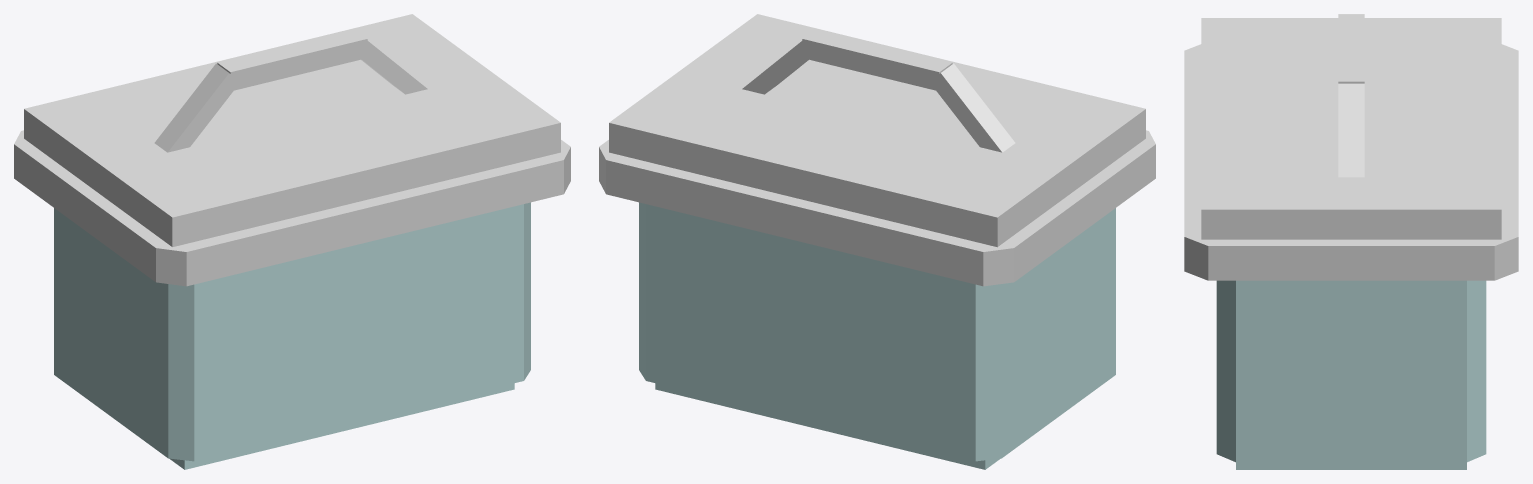
File: container_with_lid.dae
3 views of the same model, side by side, from view 1: azimuth 30°, elevation 25°; view 2: azimuth 150°, elevation 25°; view 3: azimuth 270°, elevation 25° (orthographic).
Visible parts, largest first — view 1: Lid_6, Box_2, Box_4, Lid_2, Lid_5, Handle_1, Handle_3, Lid_1, Box_1, Handle_2, Box_5; view 2: Lid_6, Box_3, Box_4, Lid_3, Lid_5, Handle_1, Handle_3, Lid_1, Box_1, Handle_2, Box_5; view 3: Lid_6, Box_5, Lid_4, Lid_3, Lid_2, Handle_2, Handle_1, Box_1, Lid_1.
Boxes of the visible parts, box(x1,y1,x2,y2) form: Lid_6: box(24, 14, 560, 247); Box_2: box(194, 204, 523, 461); Box_4: box(54, 208, 194, 461); Lid_2: box(178, 154, 563, 286); Lid_5: box(14, 131, 186, 286); Handle_1: box(217, 29, 367, 90); Handle_3: box(154, 63, 240, 152); Lid_1: box(24, 133, 560, 246); Box_1: box(169, 383, 514, 469); Handle_2: box(355, 39, 427, 94); Box_5: box(524, 202, 530, 380); Lid_6: box(609, 14, 1145, 246); Box_3: box(646, 204, 975, 461); Box_4: box(975, 208, 1115, 461); Lid_3: box(606, 154, 991, 286); Lid_5: box(983, 131, 1155, 286); Handle_1: box(802, 29, 952, 90); Handle_3: box(929, 63, 1015, 152); Lid_1: box(609, 133, 1145, 247); Box_1: box(655, 383, 1000, 469); Handle_2: box(742, 39, 814, 94); Box_5: box(639, 202, 645, 380); Lid_6: box(1201, 18, 1501, 239); Box_5: box(1216, 280, 1486, 462); Lid_4: box(1184, 236, 1518, 280); Lid_3: box(1501, 50, 1518, 236); Lid_2: box(1184, 50, 1201, 236); Handle_2: box(1338, 83, 1364, 177); Handle_1: box(1338, 14, 1364, 83); Box_1: box(1236, 462, 1466, 469); Lid_1: box(1201, 233, 1500, 239).
Size of the model in its own units: 0.2517 by 0.1738 by 0.1954.
